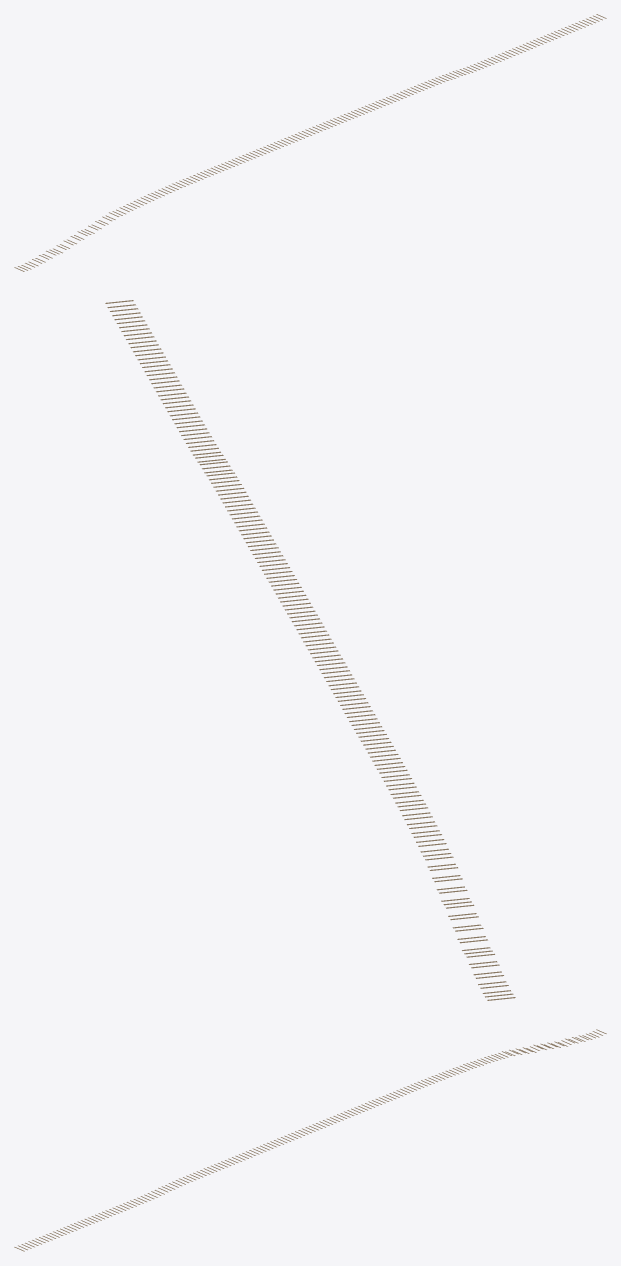
Rendered from c_1623_17825_rail_sleeper.glb.
3 renders of one model, top to bottom at view 1: azimuth 90°, elevation 25°; view 2: azimuth 150°, elevation 25°; view 3: azimuth 270°, elevation 25°, orthographic. The views are drawn at different scales.
Parts seen in each view (by area): view 1: geometry_0; view 2: geometry_0; view 3: geometry_0.
Part boxes in pixels (<box>): geometry_0: <box>14,14,606,271</box>; geometry_0: <box>105,300,515,1000</box>; geometry_0: <box>14,1029,606,1251</box>.
Bounding box in the file's own units: 93.67 × 3.76 × 97.79.
